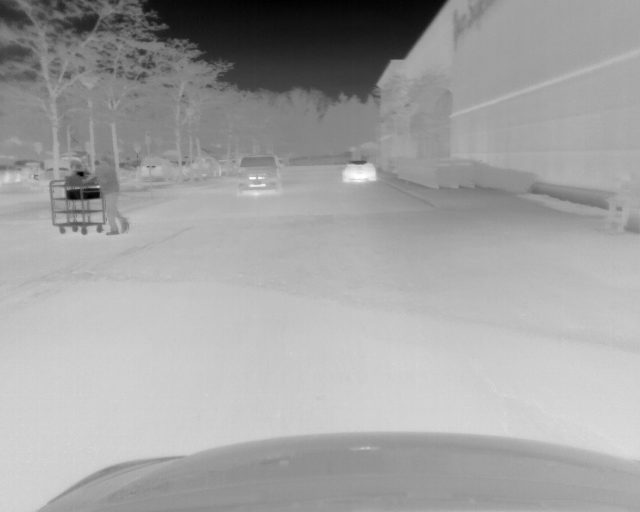car: (236, 155, 281, 195), (135, 154, 174, 182), (182, 155, 222, 181), (340, 158, 375, 184)
people: (82, 153, 129, 236), (601, 165, 640, 233)
